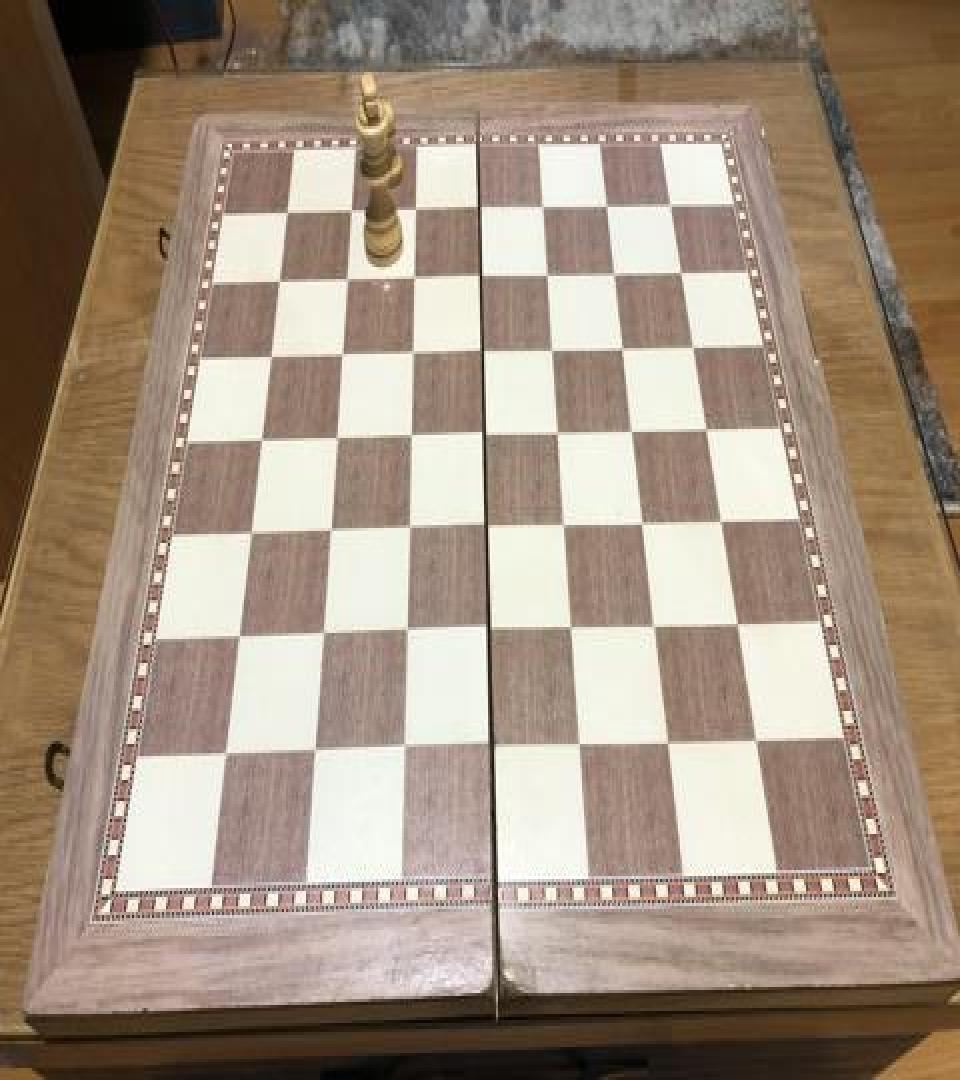xcorner: (475, 610, 499, 647), (226, 616, 250, 653), (478, 727, 502, 764), (212, 733, 236, 770), (657, 184, 681, 220), (594, 186, 618, 222), (466, 189, 490, 225), (403, 190, 427, 226), (339, 192, 363, 228), (276, 194, 300, 230), (668, 252, 692, 288), (601, 254, 625, 290), (535, 255, 559, 291), (468, 256, 492, 292), (401, 258, 425, 294), (268, 261, 292, 297), (680, 327, 704, 363), (540, 330, 564, 366), (469, 332, 493, 368), (399, 333, 423, 369), (329, 334, 353, 370), (259, 336, 283, 372), (693, 410, 717, 446), (619, 411, 643, 447), (471, 414, 495, 450), (397, 416, 421, 452), (323, 417, 347, 453), (249, 420, 273, 456), (708, 501, 732, 537), (630, 502, 654, 538), (551, 506, 575, 542), (473, 507, 497, 543), (395, 508, 419, 544), (316, 510, 340, 546), (238, 512, 262, 548), (724, 604, 748, 640), (641, 606, 665, 642), (558, 609, 582, 645), (392, 612, 416, 648), (309, 614, 333, 650), (743, 722, 767, 758), (655, 724, 679, 760), (566, 726, 590, 762), (389, 730, 413, 766), (301, 732, 325, 768), (530, 188, 554, 223), (334, 260, 358, 295), (610, 329, 634, 364), (545, 413, 569, 448)
